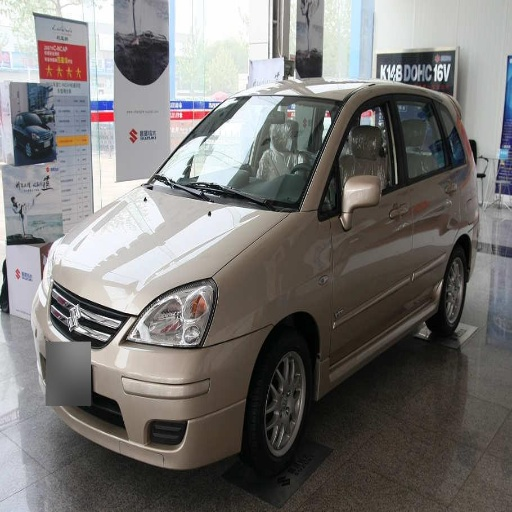front_bumper: (39, 290, 266, 469)
front_glass: (154, 96, 343, 209)
front_left_door: (330, 93, 412, 368)
